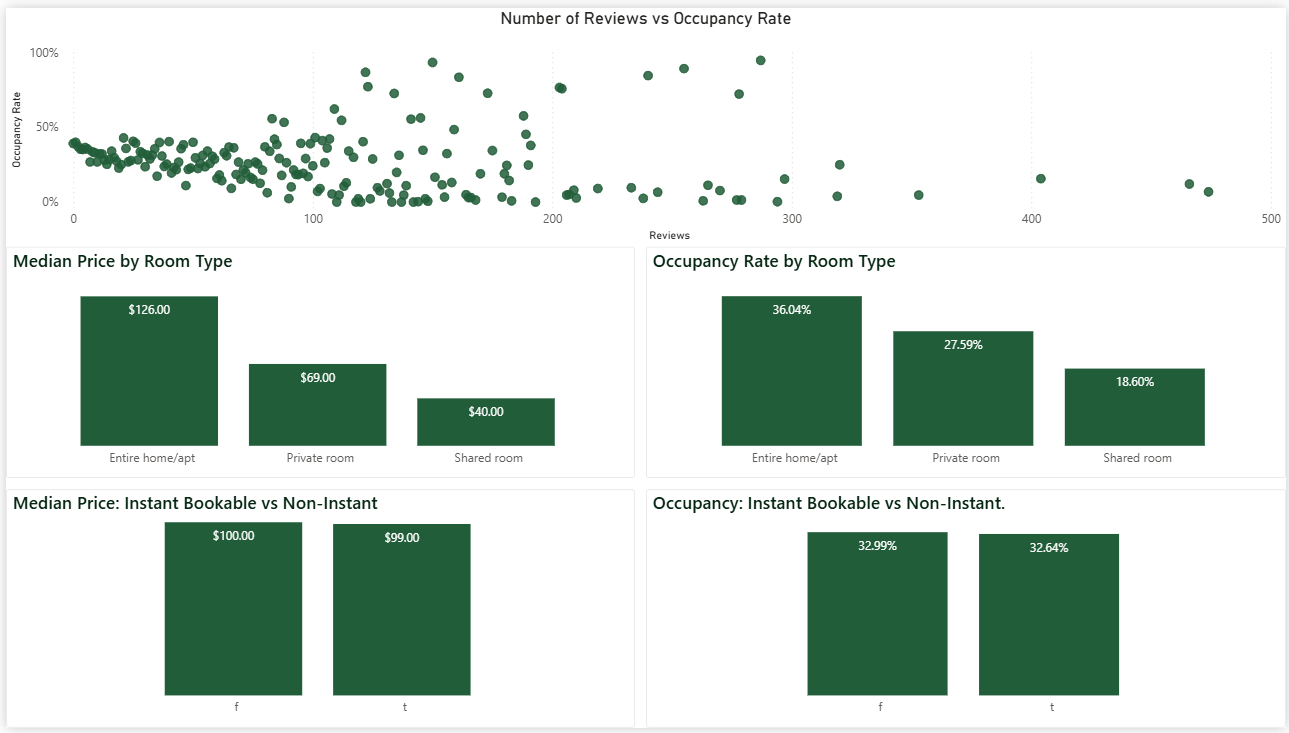

What the dashboard file says about the page in this screenshot:
{"tool":"powerbi","page":{"name":"listing_characteristics","canvas":[1280,720],"ordinal":2},"visuals":[{"type":"clusteredColumnChart","title":"Median Price by Room Type","fields":{"Category":["dim_listing.room_type"],"Y":["fact_calendar.median_price"]},"box":[0,238.6,628.6,231.4],"z":0},{"type":"clusteredColumnChart","title":"Occupancy Rate by Room Type","fields":{"Category":["dim_listing.room_type"],"Y":["fact_calendar.occupancy_rate"]},"box":[640,238.6,640,231.4],"z":1000},{"type":"clusteredColumnChart","title":"Occupancy: Instant Bookable vs Non-Instant.","fields":{"Y":["fact_calendar.occupancy_rate"],"Category":["dim_listing.instant_bookable"]},"box":[640,481.4,640,238.6],"z":2000},{"type":"clusteredColumnChart","title":"Median Price: Instant Bookable vs Non-Instant","fields":{"Category":["dim_listing.instant_bookable"],"Y":["fact_calendar.median_price"]},"box":[0,481.4,628.6,238.6],"z":3000},{"type":"scatterChart","title":"Number of Reviews vs Occupancy Rate","fields":{"Y":["fact_calendar.occupancy_rate"],"X":["dim_listing.number_of_reviews"]},"box":[0,0,1280,238.6],"z":4000}]}

Visuals, with their boxes in screenshot pixels (x1, y1, x2, y2), scaled from the page's 1280x720 canvas onto the 1289x733 screenshot:
"Median Price by Room Type" clusteredColumnChart: crop(0, 243, 633, 478)
"Occupancy Rate by Room Type" clusteredColumnChart: crop(644, 243, 1288, 478)
"Occupancy: Instant Bookable vs Non-Instant." clusteredColumnChart: crop(644, 490, 1288, 732)
"Median Price: Instant Bookable vs Non-Instant" clusteredColumnChart: crop(0, 490, 633, 732)
"Number of Reviews vs Occupancy Rate" scatterChart: crop(0, 0, 1288, 243)
